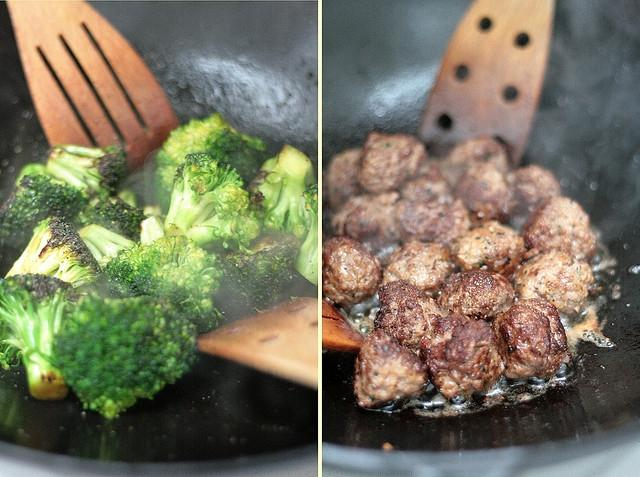broccoli: (50, 292, 202, 421), (78, 225, 228, 332), (0, 163, 90, 279), (163, 152, 260, 254), (0, 273, 76, 401), (0, 216, 111, 299), (212, 243, 298, 320), (252, 144, 316, 238), (45, 144, 128, 200), (156, 112, 228, 168), (71, 195, 146, 245), (204, 130, 276, 182), (292, 184, 318, 286)
